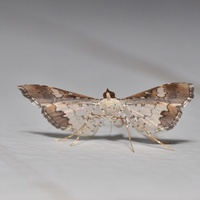insect: (18, 82, 193, 151)
